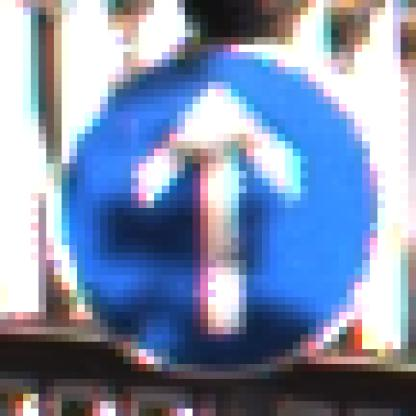AheadOnly: (47, 38, 379, 380)
